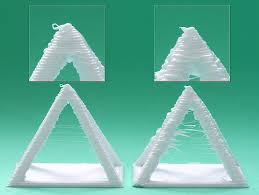3dpripples: (168, 50, 195, 70), (36, 57, 62, 77)
3dpstringing: (45, 20, 84, 52), (53, 124, 91, 146), (176, 132, 205, 156), (180, 117, 205, 131)
